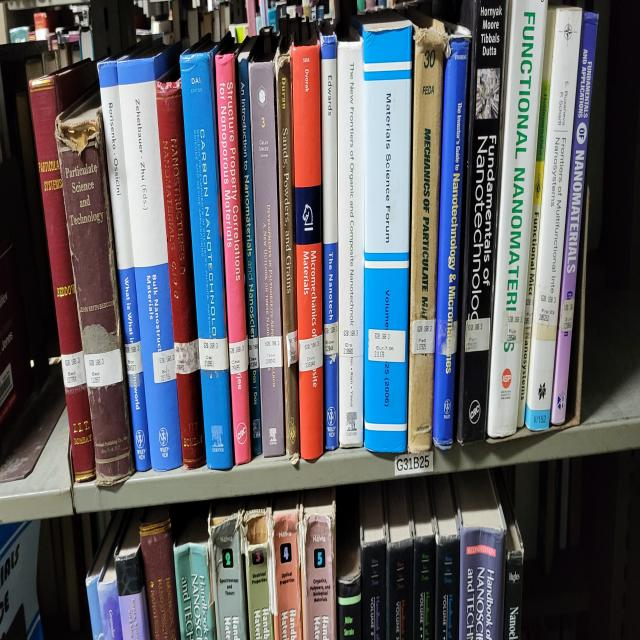Book: (55, 95, 134, 484), (30, 62, 98, 482), (118, 43, 182, 471), (180, 35, 234, 468), (456, 0, 506, 444), (98, 60, 151, 471), (156, 68, 206, 468), (551, 14, 598, 425), (408, 22, 450, 455), (432, 30, 470, 449), (249, 43, 285, 457), (215, 51, 251, 463), (291, 41, 324, 460), (338, 32, 364, 446), (275, 41, 300, 465), (238, 49, 262, 455), (364, 254, 409, 452), (320, 22, 339, 449)
Label: (84, 349, 122, 387), (368, 330, 405, 363), (199, 338, 229, 371), (61, 352, 86, 390), (174, 338, 200, 373), (465, 317, 490, 352), (152, 349, 176, 384), (411, 319, 435, 354), (299, 335, 322, 371), (259, 335, 282, 368), (229, 338, 249, 373), (340, 325, 361, 357), (125, 341, 142, 376), (324, 322, 339, 357), (560, 298, 574, 333), (286, 330, 298, 365), (249, 338, 259, 371)
